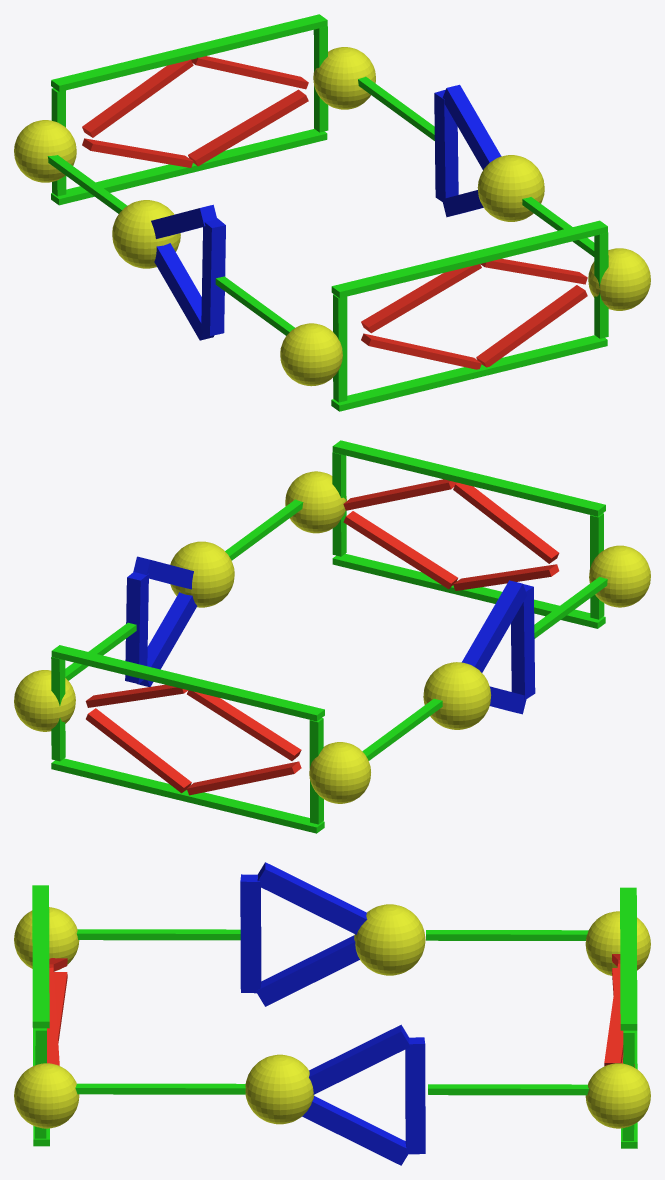
Rendered from GPU.fbx.
The picture shows the model from 3 angles, top to bottom: view 1: azimuth 30°, elevation 25°; view 2: azimuth 150°, elevation 25°; view 3: azimuth 270°, elevation 25°; orthographic projection. The views are drawn at different scales.
Visible parts, largest first — view 1: Sphere.001; view 2: Sphere.001; view 3: Sphere.001.
Part boxes in pixels (bbox=[...]): Sphere.001: bbox=[14, 14, 650, 411]; Sphere.001: bbox=[14, 440, 650, 833]; Sphere.001: bbox=[14, 862, 650, 1165].
Bounding box in the file's own units: 1090 × 375 × 1559.
